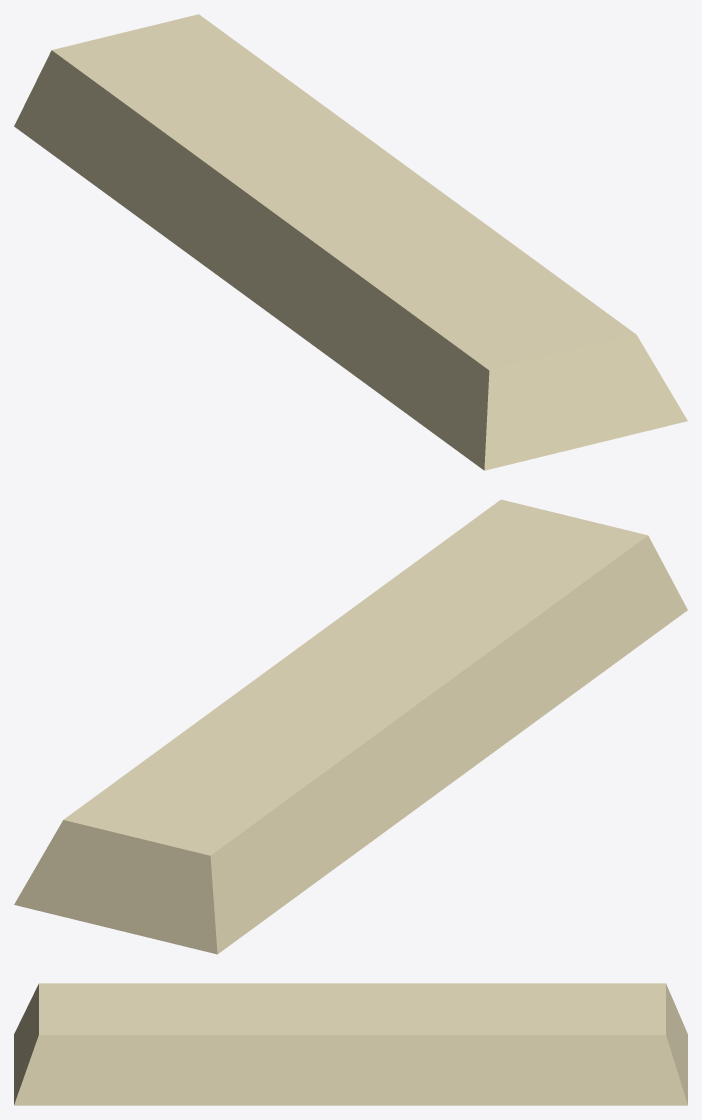
The model's file is space_button.fbx.
3 views of the same model, one above another, from view 1: azimuth 30°, elevation 25°; view 2: azimuth 150°, elevation 25°; view 3: azimuth 270°, elevation 25° (orthographic). The views are drawn at different scales.
Visible parts, largest first — view 1: Cube; view 2: Cube; view 3: Cube.
Part boxes in pixels (x1,y1,x2,y2): Cube: [14, 14, 687, 470]; Cube: [14, 499, 687, 954]; Cube: [14, 983, 687, 1105].
Bounding box in the file's own units: 200 × 77.04 × 801.
